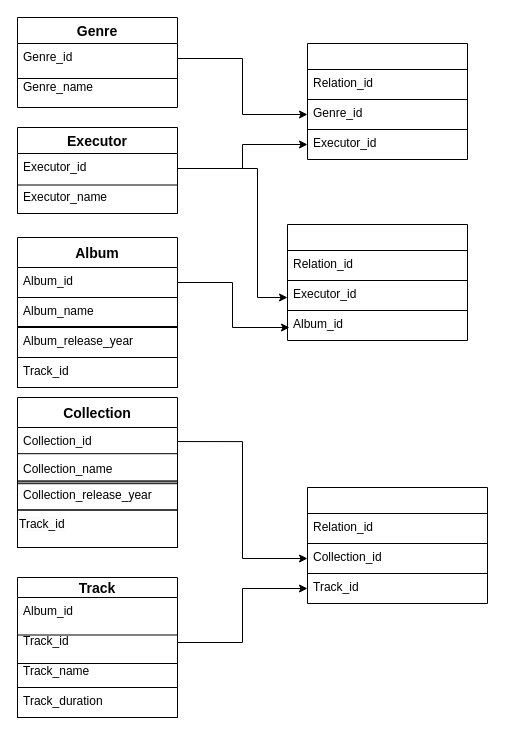
This 505x738 diagram has some shape labels left out. The shapes that lost their labels are listed below. From the top down, each one's box as (x1, y1, x2, y2) in pixels, then its label:
(306, 42, 468, 160): Relation Genre-Executor
(286, 224, 468, 340): Relation Executor-Album
(306, 486, 488, 604): Relation Collection-Track
